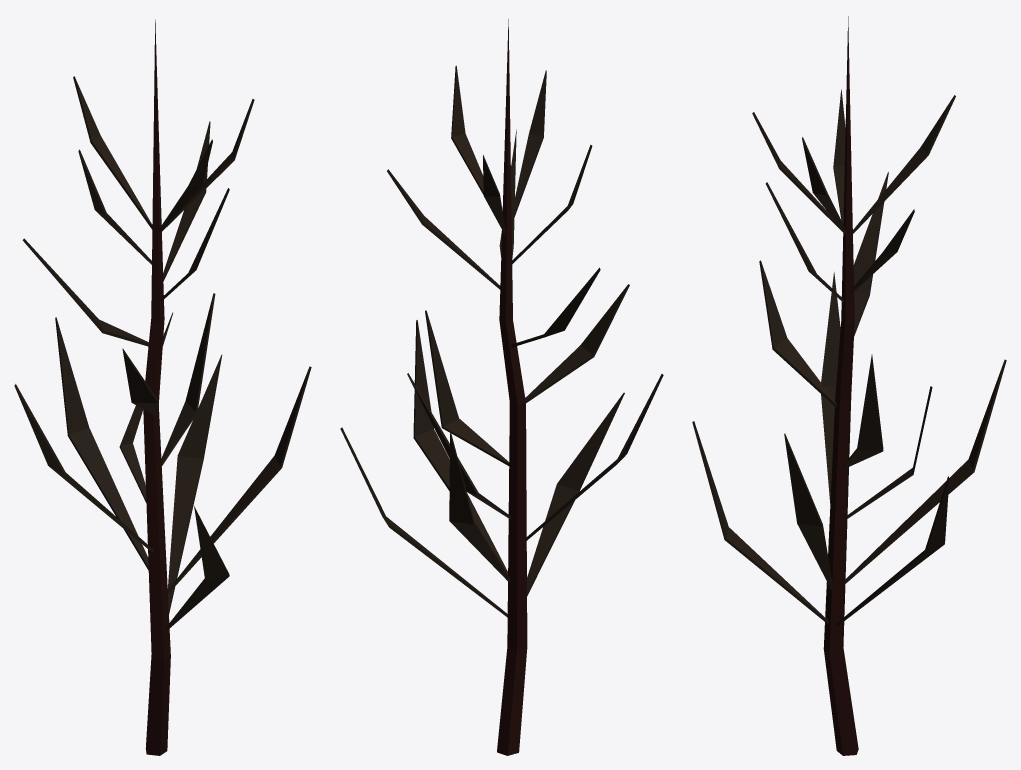
The model's file is Plant_2.glb.
The picture shows the model from 3 angles, left to right: view 1: azimuth 30°, elevation 25°; view 2: azimuth 150°, elevation 25°; view 3: azimuth 270°, elevation 25°; orthographic projection.
Visible parts, largest first — view 1: Plant_2_Cylinder.020; view 2: Plant_2_Cylinder.020; view 3: Plant_2_Cylinder.020.
Part boxes in pixels (x1=…): Plant_2_Cylinder.020: x1=14, y1=19, x2=311, y2=755; Plant_2_Cylinder.020: x1=340, y1=19, x2=663, y2=755; Plant_2_Cylinder.020: x1=692, y1=16, x2=1006, y2=755.
Size of the model in its own units: 0.6859 by 1.77 by 0.6859.
